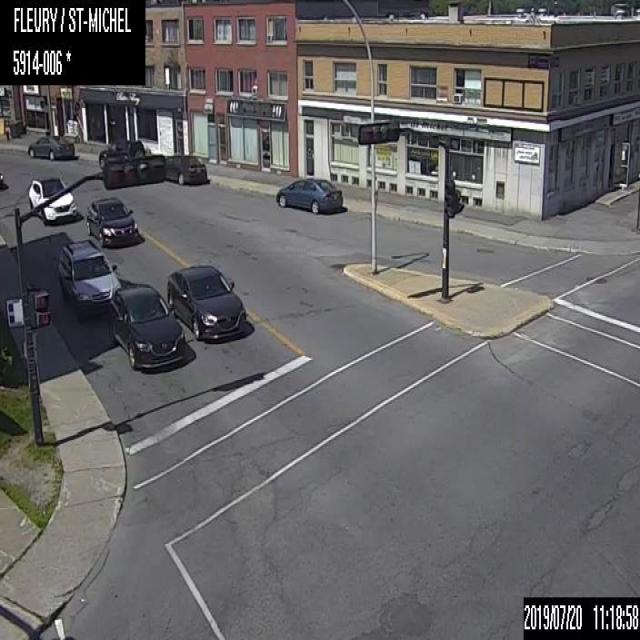vehicle: (109, 282, 185, 371), (166, 264, 245, 341), (57, 238, 120, 320), (85, 196, 138, 246), (26, 175, 76, 225), (275, 176, 342, 213), (27, 132, 75, 161), (98, 138, 144, 168), (164, 154, 207, 184), (0, 172, 4, 185)
